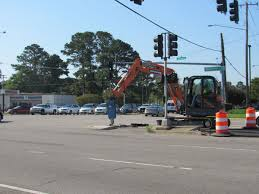signal: (167, 34, 178, 58), (152, 34, 163, 58), (229, 2, 240, 22), (215, 1, 227, 13)
